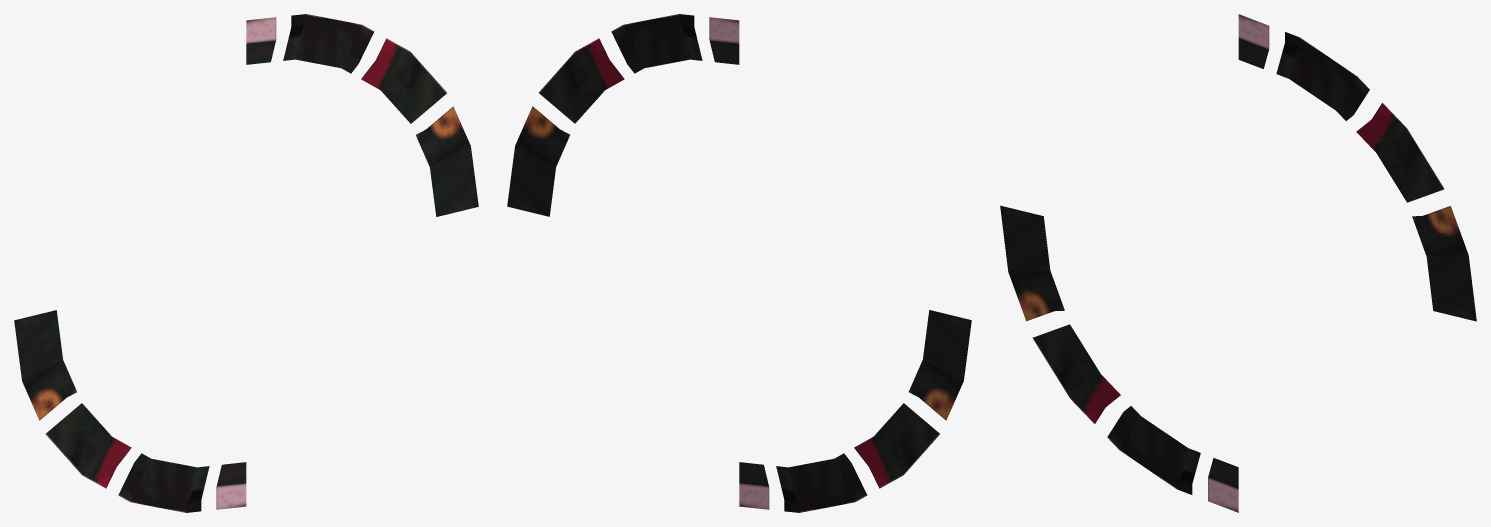
3 renders of one model, left to right at view 1: azimuth 30°, elevation 25°; view 2: azimuth 150°, elevation 25°; view 3: azimuth 330°, elevation 25°, orthographic. The views are drawn at different scales.
Parts seen in each view (by area): view 1: T1L4M001_24; view 2: T1L4M001_24; view 3: T1L4M001_24.
Part boxes in pixels (x1=…): T1L4M001_24: x1=14, y1=14, x2=478, y2=512; T1L4M001_24: x1=507, y1=14, x2=971, y2=512; T1L4M001_24: x1=1000, y1=14, x2=1476, y2=512.
Size of the model in its own units: 2.06 by 2.06 by 0.000977.
